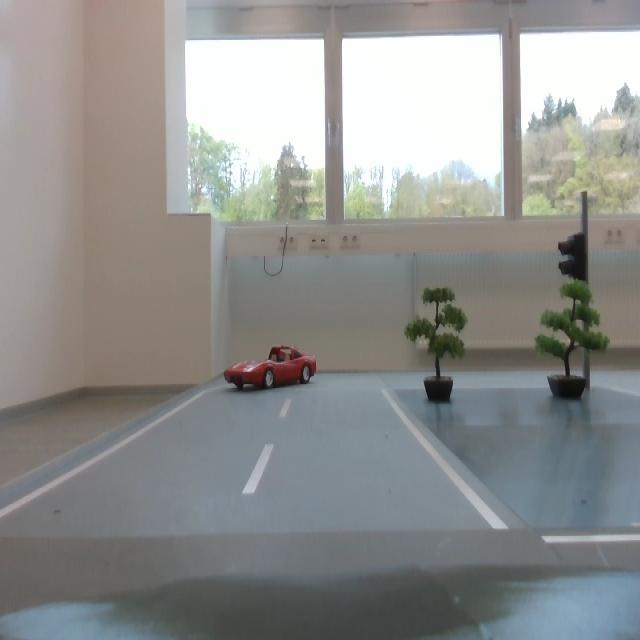car: (220, 337, 321, 396)
potted plant: (535, 281, 612, 376), (404, 280, 471, 378)
traffic light: (553, 231, 591, 297)
